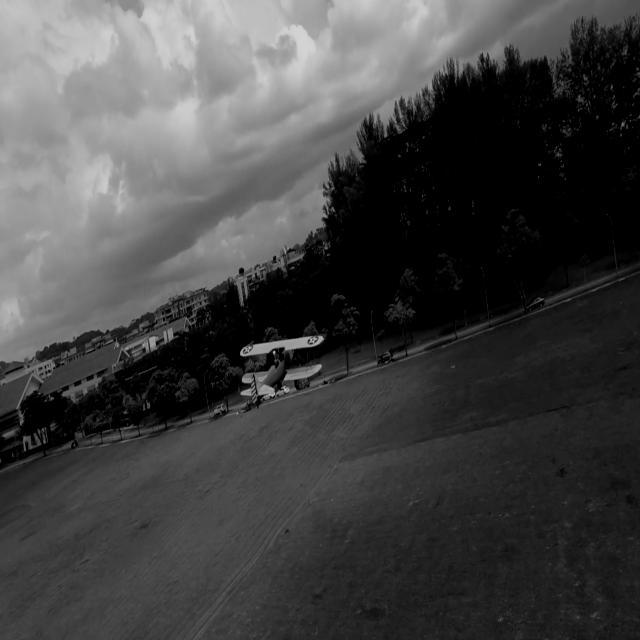iha: (269, 364, 293, 366)
